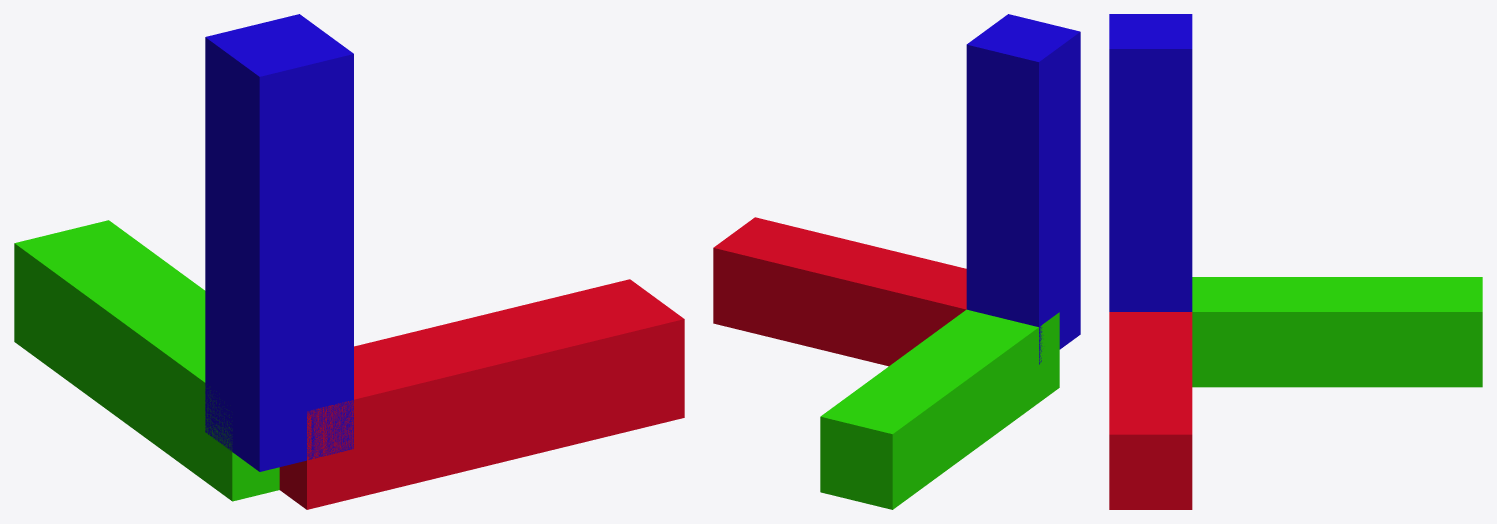
The model's file is coordSys.gltf.
3 renders of one model, left to right at view 1: azimuth 30°, elevation 25°; view 2: azimuth 150°, elevation 25°; view 3: azimuth 270°, elevation 25°, orthographic. The views are drawn at different scales.
Parts seen in each view (by area): view 1: Y, Z, X; view 2: Y, X, Z; view 3: X, Y, Z.
Boxes of the visible parts, bbox=[...] form: Y: bbox=[205, 14, 353, 471]; Z: bbox=[279, 279, 684, 509]; X: bbox=[14, 220, 279, 501]; Y: bbox=[966, 14, 1080, 364]; X: bbox=[820, 309, 1059, 509]; Z: bbox=[713, 217, 966, 366]; X: bbox=[1192, 277, 1482, 387]; Y: bbox=[1109, 14, 1192, 311]; Z: bbox=[1109, 312, 1192, 509].
Bounding box in the file's own units: 2.25 × 2.25 × 2.25.
